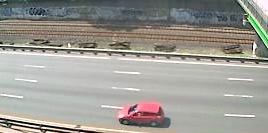car: (115, 101, 170, 127)
